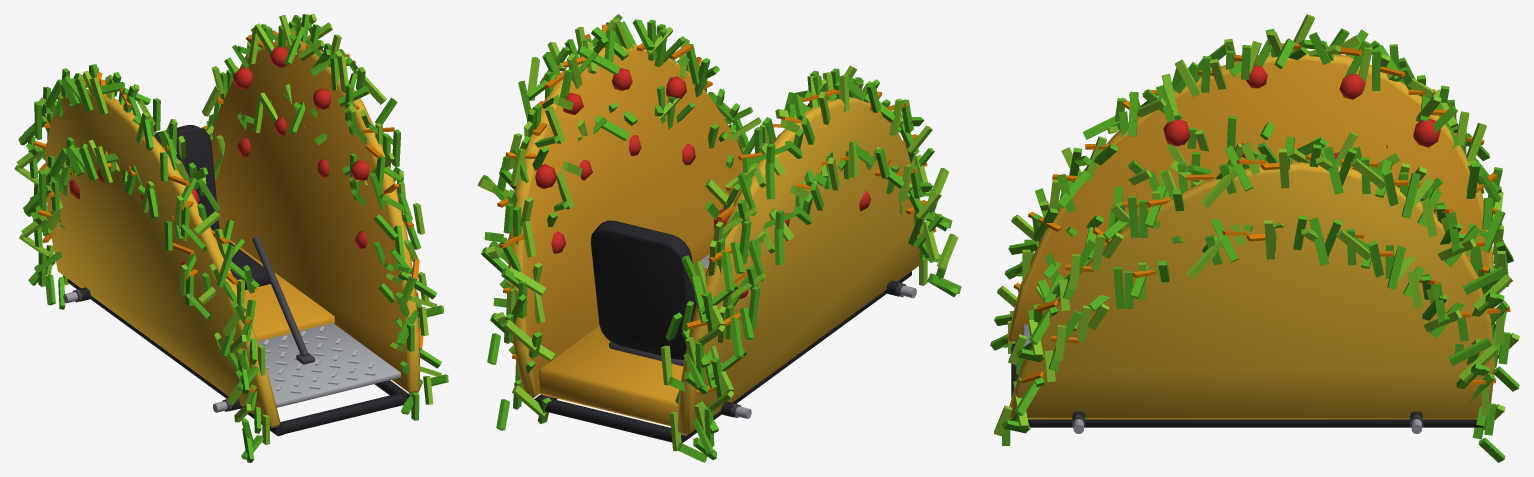
The model's file is taco.glb.
3 views of the same model, side by side, from view 1: azimuth 30°, elevation 25°; view 2: azimuth 150°, elevation 25°; view 3: azimuth 270°, elevation 25° (orthographic). The views are drawn at different scales.
Parts seen in each view (by area): view 1: taco, taco_sig, taco_wreck; view 2: taco, taco_sig, taco_wreck; view 3: taco, taco_sig, taco_wreck.
Part boxes in pixels (<box>): taco: <box>14,14,443,436</box>; taco_sig: <box>19,84,448,462</box>; taco_wreck: <box>65,242,400,412</box>; taco: <box>477,14,952,443</box>; taco_sig: <box>488,85,961,462</box>; taco_wreck: <box>534,254,914,442</box>; taco: <box>1004,14,1519,433</box>; taco_sig: <box>990,116,1505,462</box>; taco_wreck: <box>1023,324,1483,427</box>.
Size of the model in its own units: 1.37 by 1.53 by 2.19.
